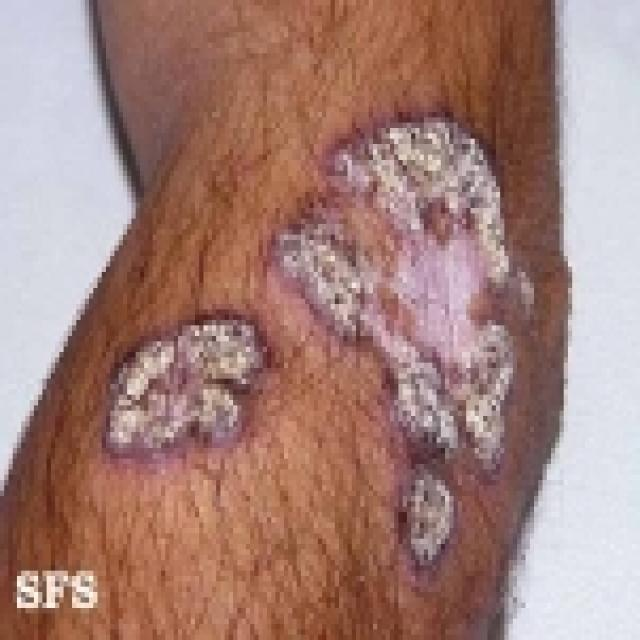lupus: (98, 104, 539, 572)
